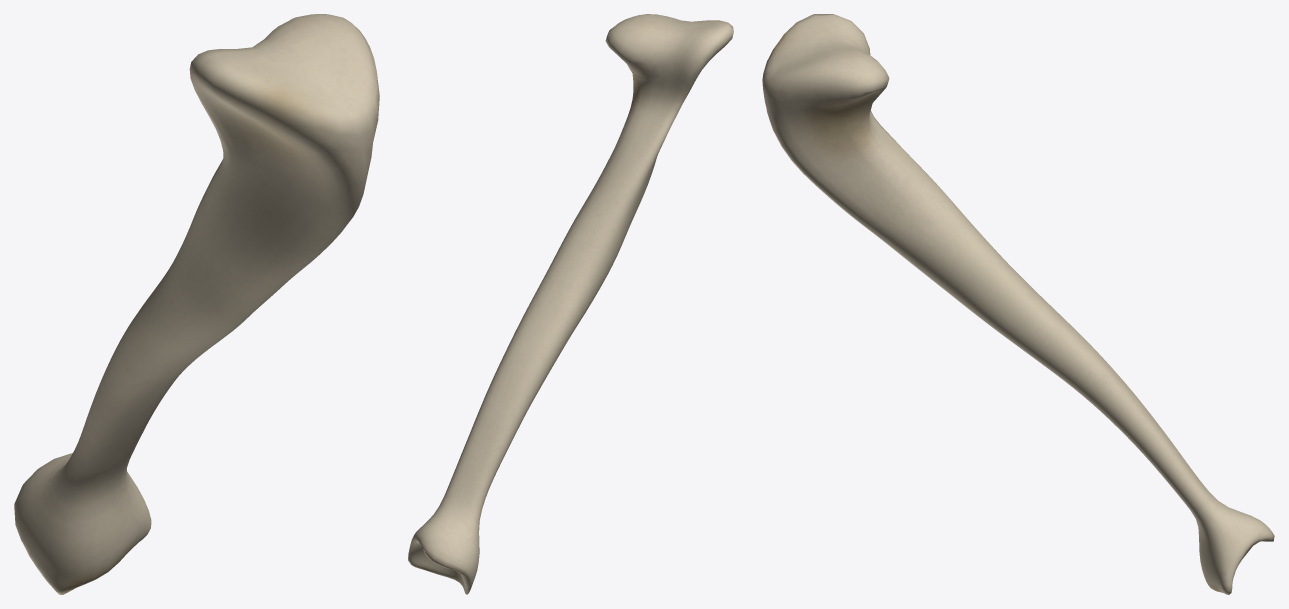
The model's file is L Tibia.fbx.
The picture shows the model from 3 angles, left to right: view 1: azimuth 30°, elevation 25°; view 2: azimuth 150°, elevation 25°; view 3: azimuth 270°, elevation 25°; orthographic projection. The views are drawn at different scales.
Visible parts, largest first — view 1: L Tibia; view 2: L Tibia; view 3: L Tibia.
Part boxes in pixels (<box>): L Tibia: <box>14,14,379,594</box>; L Tibia: <box>408,14,733,594</box>; L Tibia: <box>762,14,1274,594</box>.
Size of the model in its own units: 10.41 by 31.45 by 27.7.
